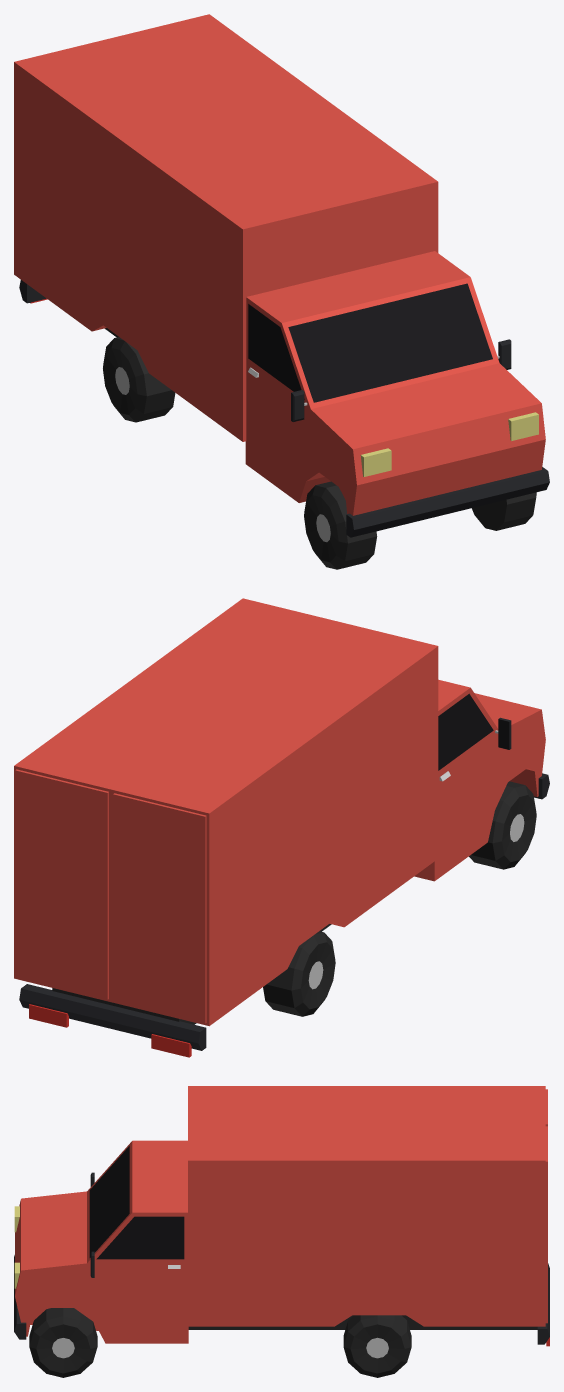
File: Small_Truck_04.fbx
The picture shows the model from 3 angles, top to bottom: view 1: azimuth 30°, elevation 25°; view 2: azimuth 150°, elevation 25°; view 3: azimuth 270°, elevation 25°; orthographic projection. The views are drawn at different scales.
Visible parts, largest first — view 1: Small_Truck_04; view 2: Small_Truck_04; view 3: Small_Truck_04.
Boxes of the visible parts, box(x1,y1,x2,y2) form: Small_Truck_04: box(14, 14, 549, 569); Small_Truck_04: box(14, 598, 549, 1057); Small_Truck_04: box(14, 1086, 549, 1377).
Size of the model in its own units: 3.19 by 3.91 by 8.68.
